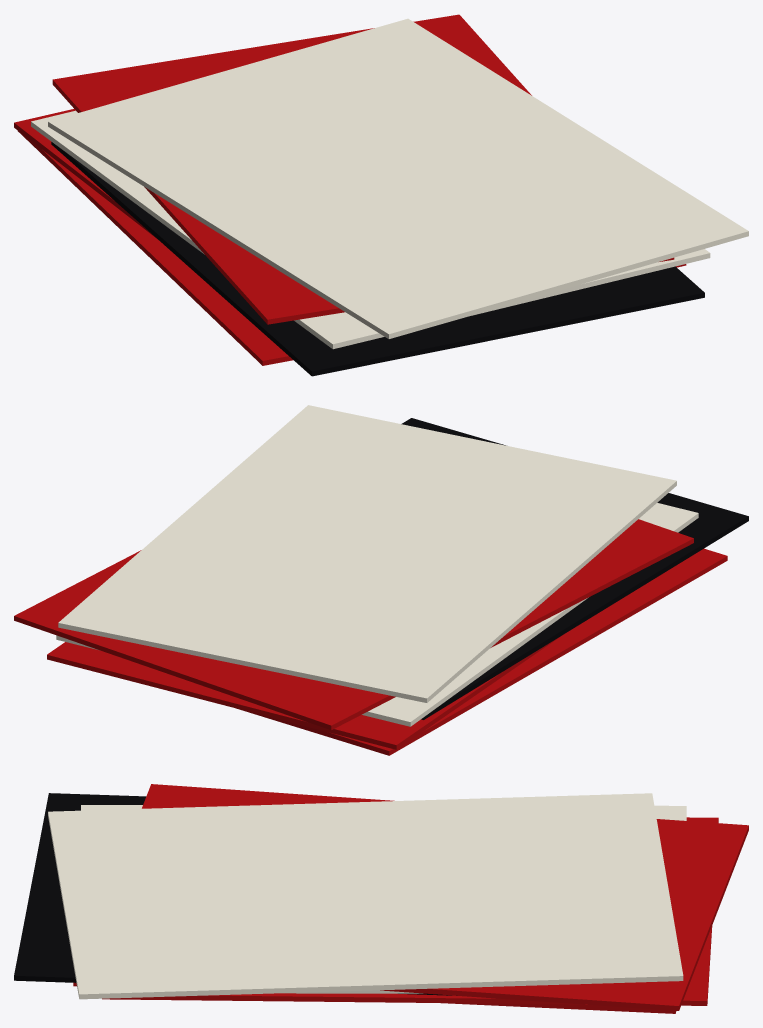
File: Item_OR_Cards_03.glb
The picture shows the model from 3 angles, top to bottom: view 1: azimuth 30°, elevation 25°; view 2: azimuth 150°, elevation 25°; view 3: azimuth 270°, elevation 25°; orthographic projection. The views are drawn at different scales.
Parts seen in each view (by area): view 1: Item_OR_Cards_03; view 2: Item_OR_Cards_03; view 3: Item_OR_Cards_03.
Part boxes in pixels (<box>): Item_OR_Cards_03: <box>14,14,748,376</box>; Item_OR_Cards_03: <box>14,405,748,755</box>; Item_OR_Cards_03: <box>14,784,748,1013</box>.
Size of the model in its own units: 0.0798 by 0.0058 by 0.1068.
